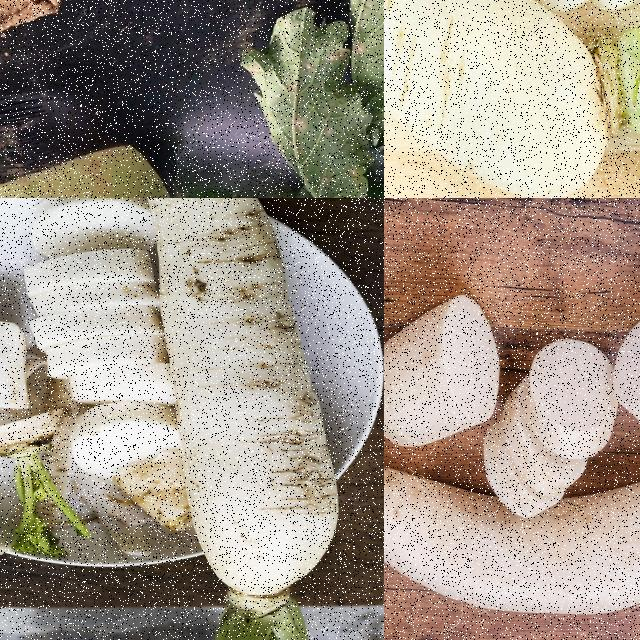radish: (134, 198, 343, 596), (20, 198, 194, 534), (384, 408, 639, 623), (384, 0, 639, 197), (482, 334, 619, 520), (384, 288, 500, 450), (613, 306, 639, 478)
